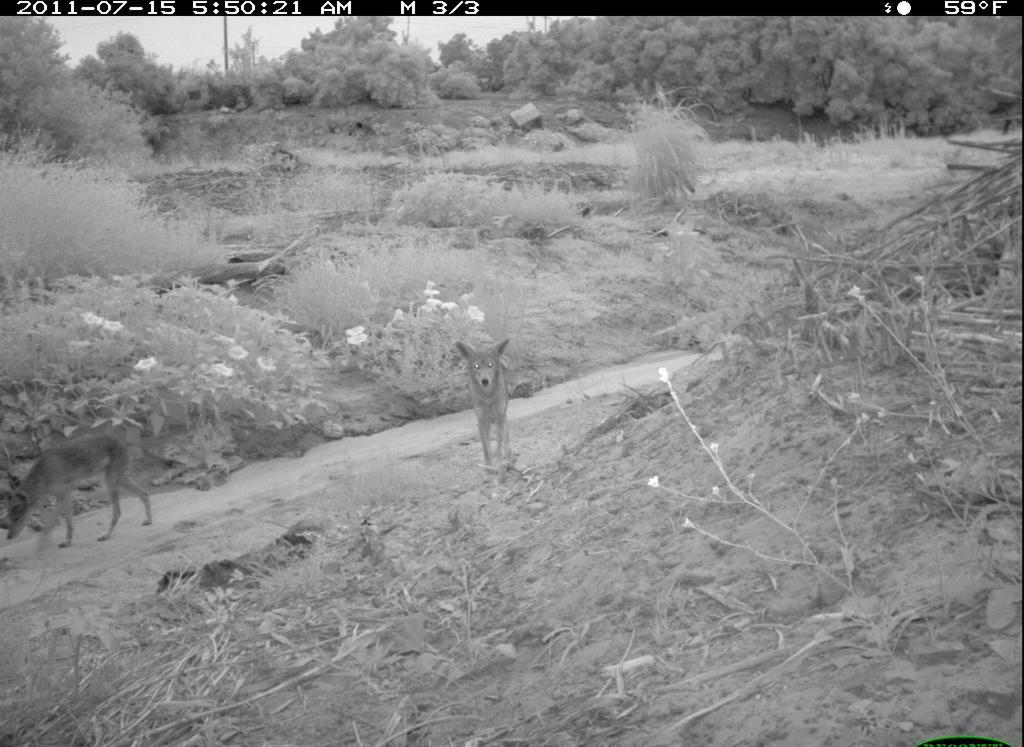coyote: (2, 409, 158, 552), (447, 328, 527, 473)
